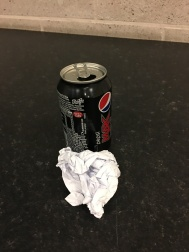can_black: (51, 55, 126, 158)
paper_white: (46, 144, 135, 222)
